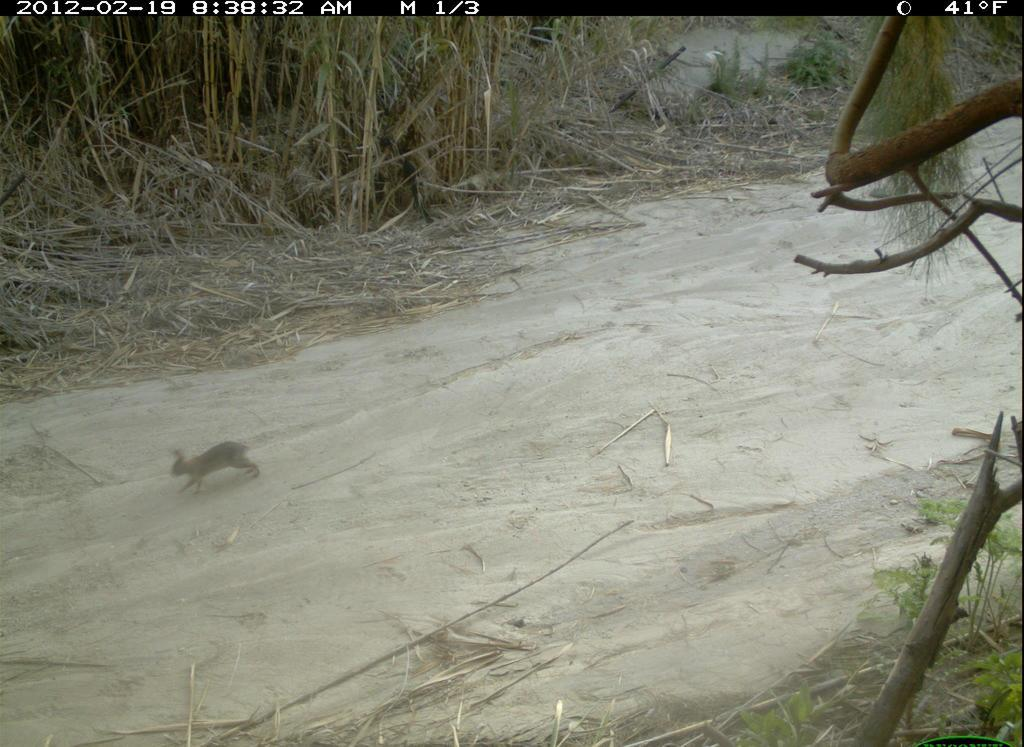rabbit: (164, 437, 267, 501)
